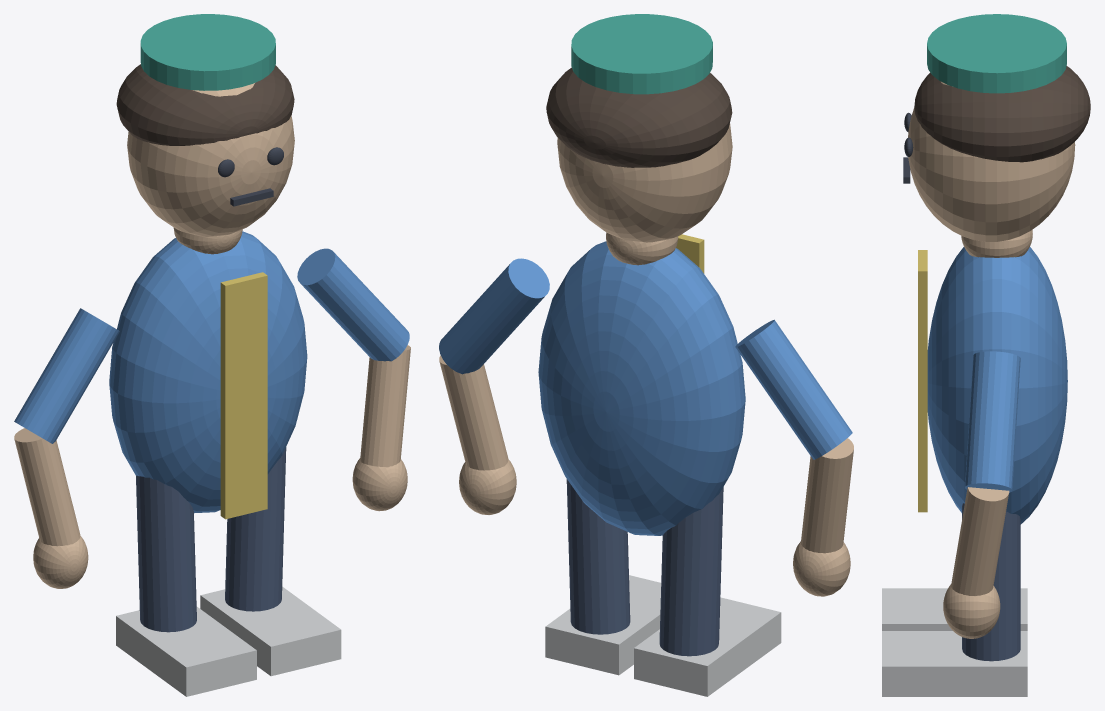
File: zayd.glb
The picture shows the model from 3 angles, left to right: view 1: azimuth 30°, elevation 25°; view 2: azimuth 150°, elevation 25°; view 3: azimuth 270°, elevation 25°; orthographic projection. The views are drawn at different scales.
Parts seen in each view (by area): view 1: torso, head, shirt_stripe, hair_cap, kufi, left_leg, left_shoe, right_shoe, right_leg, left_upper_arm, right_upper_arm, left_forearm (+4 smaller); view 2: torso, hair_cap, head, kufi, left_leg, left_shoe, right_leg, left_upper_arm, right_upper_arm, right_shoe, right_forearm, left_forearm (+4 smaller); view 3: torso, head, hair_cap, kufi, right_shoe, right_upper_arm, right_forearm, right_leg, left_shoe, shirt_stripe, right_hand, neck.
Boxes of the visible parts, box(x1,y1,x2,y2) form: torso: box(109, 231, 307, 513); head: box(127, 83, 294, 236); shirt_stripe: box(220, 272, 267, 519); hair_cap: box(116, 64, 294, 145); kufi: box(140, 14, 275, 90); left_leg: box(136, 475, 196, 632); left_shoe: box(116, 606, 256, 696); right_shoe: box(200, 586, 341, 676); right_leg: box(225, 447, 286, 611); left_upper_arm: box(14, 308, 119, 443); right_upper_arm: box(297, 248, 409, 361); left_forearm: box(14, 428, 80, 546); torso: box(538, 241, 745, 535); hair_cap: box(546, 67, 732, 167); head: box(557, 123, 732, 242); kufi: box(571, 14, 712, 94); left_leg: box(659, 487, 723, 656); left_shoe: box(634, 597, 781, 696); right_leg: box(566, 479, 630, 634); left_upper_arm: box(735, 319, 852, 459); right_upper_arm: box(439, 258, 549, 374); right_shoe: box(545, 575, 661, 675); right_forearm: box(439, 355, 508, 470); left_forearm: box(801, 438, 853, 553); torso: box(927, 247, 1067, 524); head: box(908, 81, 1075, 241); hair_cap: box(914, 66, 1090, 162); kufi: box(927, 14, 1066, 93); right_shoe: box(882, 631, 1027, 696); right_upper_arm: box(965, 351, 1020, 492); right_forearm: box(951, 487, 1009, 595); right_leg: box(962, 503, 1020, 661); left_shoe: box(882, 588, 1027, 630); shirt_stripe: box(918, 250, 927, 512); right_hand: box(943, 584, 1000, 638); neck: box(961, 229, 1032, 257).
Size of the model in its own units: 1.67 by 2.42 by 0.745.
